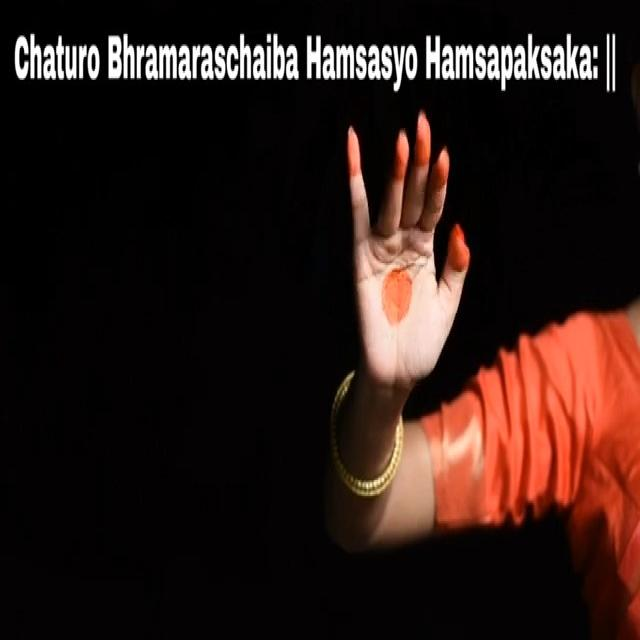Hamsapaksha: (331, 95, 482, 378)
bangle: (321, 399, 423, 518)
text: (4, 21, 622, 94)
